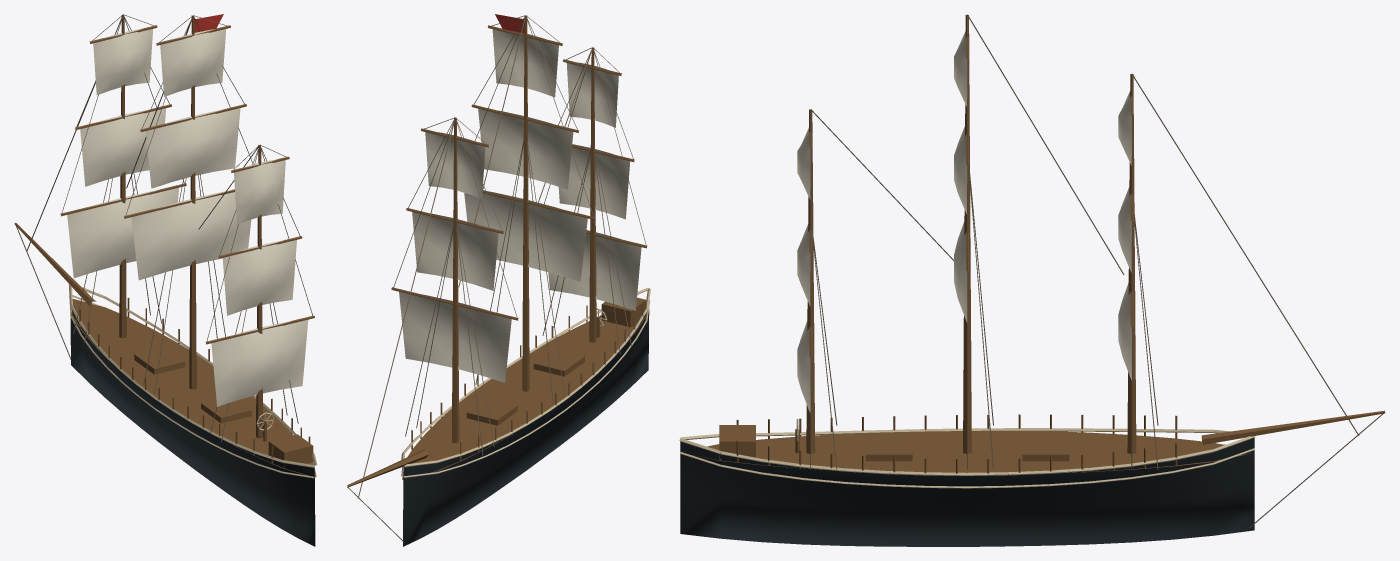
File: clipper-mid.glb
3 views of the same model, side by side, from view 1: azimuth 30°, elevation 25°; view 2: azimuth 150°, elevation 25°; view 3: azimuth 270°, elevation 25° (orthographic). The views are drawn at different scales.
Visible parts, largest first — view 1: tarred-hull, timber-spars, timber-deck, canvas-1-2, canvas-2-2, canvas-1-1, canvas-0-2, canvas-2-1, canvas-0-1, rope-rigging, canvas-1-0, canvas-0-0 (+3 smaller); view 2: tarred-hull, timber-spars, timber-deck, canvas-0-2, rope-rigging, canvas-1-2, canvas-1-1, canvas-0-1, canvas-2-2, canvas-2-1, canvas-1-0, canvas-0-0 (+3 smaller); view 3: tarred-hull, timber-deck, timber-spars, painted-wale, rope-rigging, canvas-1-2, canvas-0-2, canvas-2-2.
Part boxes in pixels (x1,y1,x2,y2): tarred-hull: [70, 309, 315, 546]; timber-spars: [14, 15, 314, 468]; timber-deck: [71, 299, 315, 477]; canvas-1-2: [131, 189, 251, 280]; canvas-2-2: [211, 319, 308, 406]; canvas-1-1: [146, 108, 240, 188]; canvas-0-2: [67, 187, 179, 278]; canvas-2-1: [222, 240, 296, 315]; canvas-0-1: [80, 108, 166, 186]; rope-rigging: [16, 14, 312, 442]; canvas-1-0: [160, 29, 226, 96]; canvas-0-0: [93, 28, 152, 95]; tarred-hull: [403, 309, 649, 546]; timber-spars: [347, 15, 647, 487]; timber-deck: [402, 309, 647, 479]; canvas-0-2: [399, 291, 511, 382]; rope-rigging: [347, 15, 646, 541]; canvas-1-2: [464, 191, 587, 281]; canvas-1-1: [478, 108, 573, 189]; canvas-0-1: [412, 212, 498, 290]; canvas-2-2: [548, 230, 641, 310]; canvas-2-1: [558, 144, 630, 219]; canvas-1-0: [492, 29, 558, 97]; canvas-0-0: [425, 132, 485, 198]; tarred-hull: [680, 438, 1254, 546]; timber-deck: [697, 431, 1252, 472]; timber-spars: [719, 15, 1384, 473]; painted-wale: [679, 418, 1255, 488]; rope-rigging: [810, 14, 1383, 528]; canvas-1-2: [954, 222, 967, 322]; canvas-0-2: [1118, 283, 1131, 380]; canvas-2-2: [797, 321, 810, 413].
Size of the model in its own units: 7.21 by 22.51 by 27.05.
